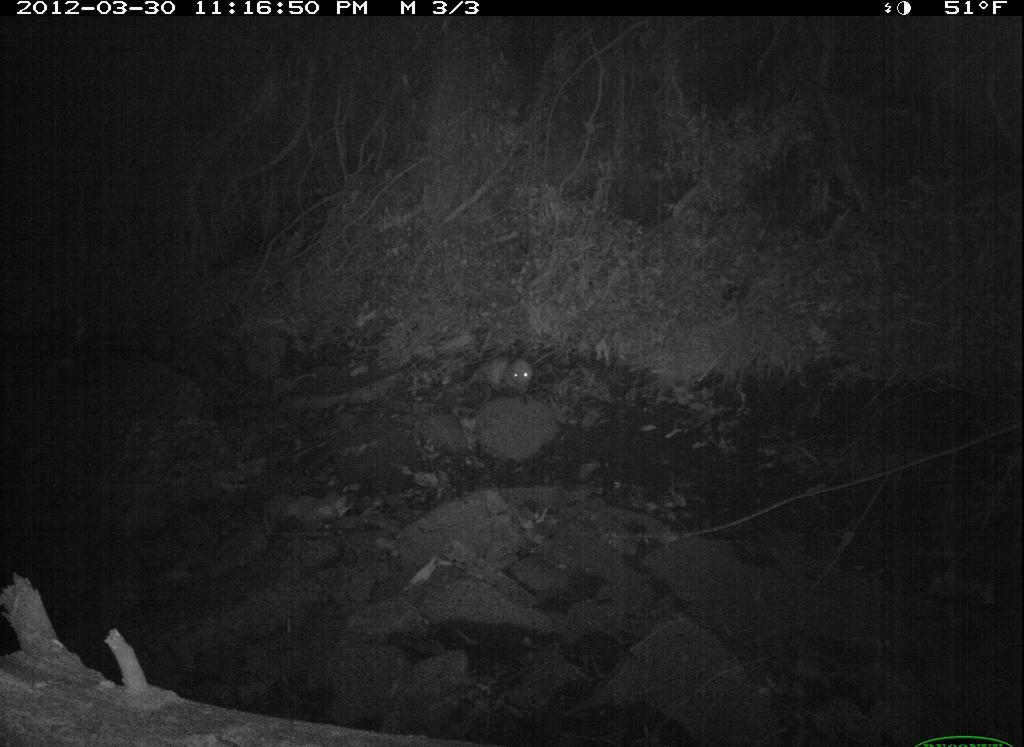opossum: (461, 346, 539, 410)
